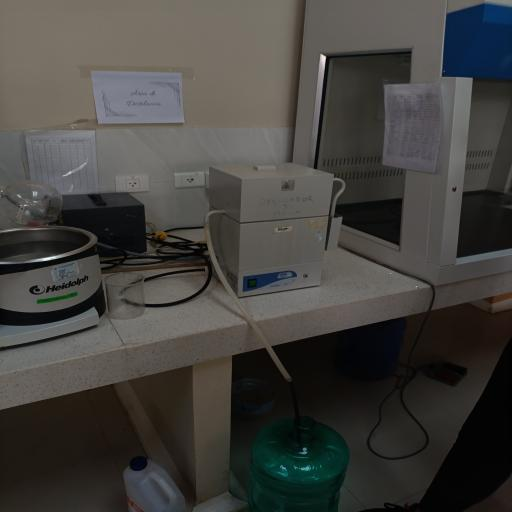Destilador_agua: (186, 146, 352, 306)
